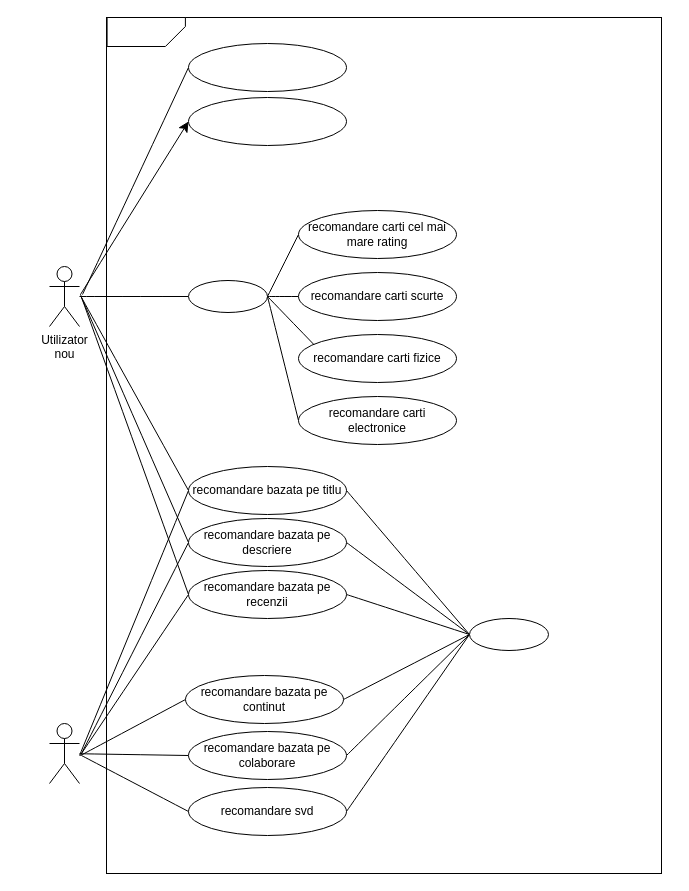
The diagram is 689 pixels wide and 891 high, and some of its shapes have lost their labels. Here are the shapes that lost their labels. From the top down, the box of each, then its label:
(106, 16, 185, 46): Sistem
(188, 42, 346, 92): adauga carte in librarie
(188, 96, 346, 146): sterge carte din librarie
(188, 280, 268, 312): cold start
(468, 618, 548, 650): model AI
(48, 722, 80, 784): Utilizator existent in baza de date Goodreads
